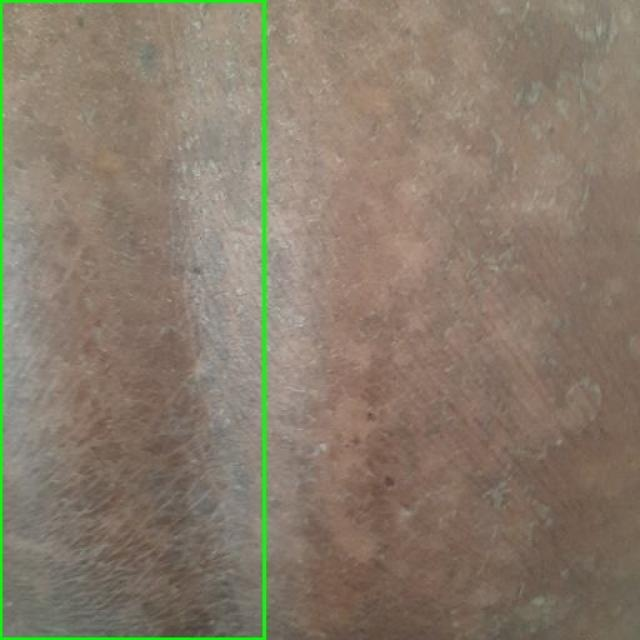Seborrheic Dermatitis: (0, 0, 264, 639)
